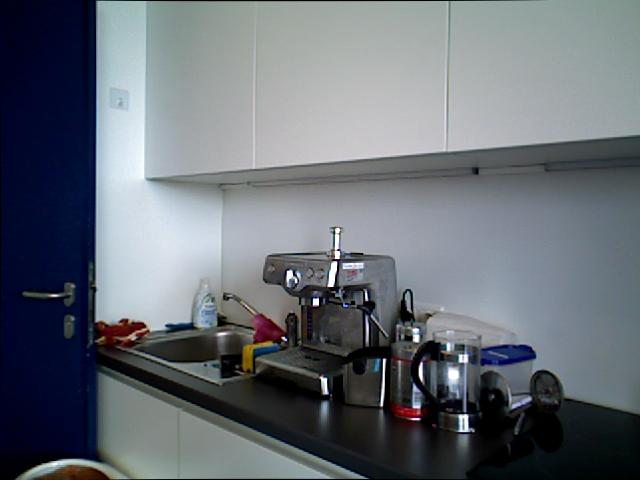bench: (191, 276, 218, 330)
couch: (132, 321, 267, 376)
handbag: (410, 328, 482, 433)
